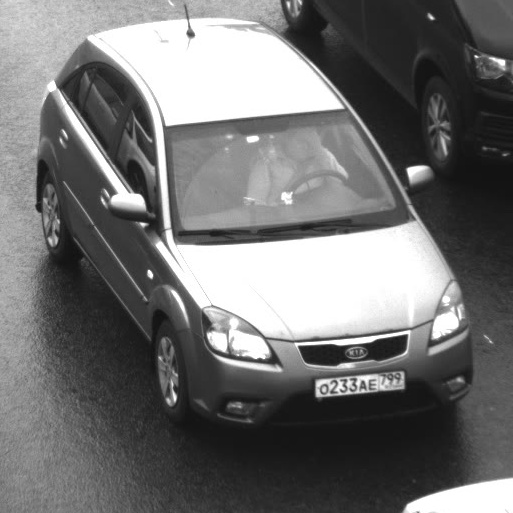plate: (303, 358, 413, 405)
